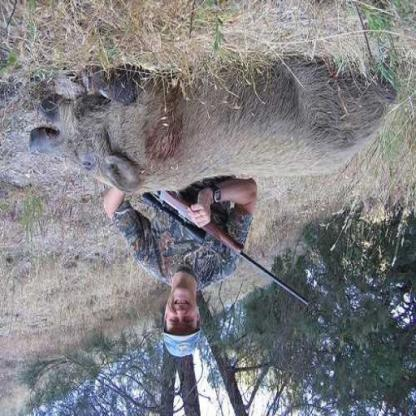boar: (23, 19, 399, 211)
